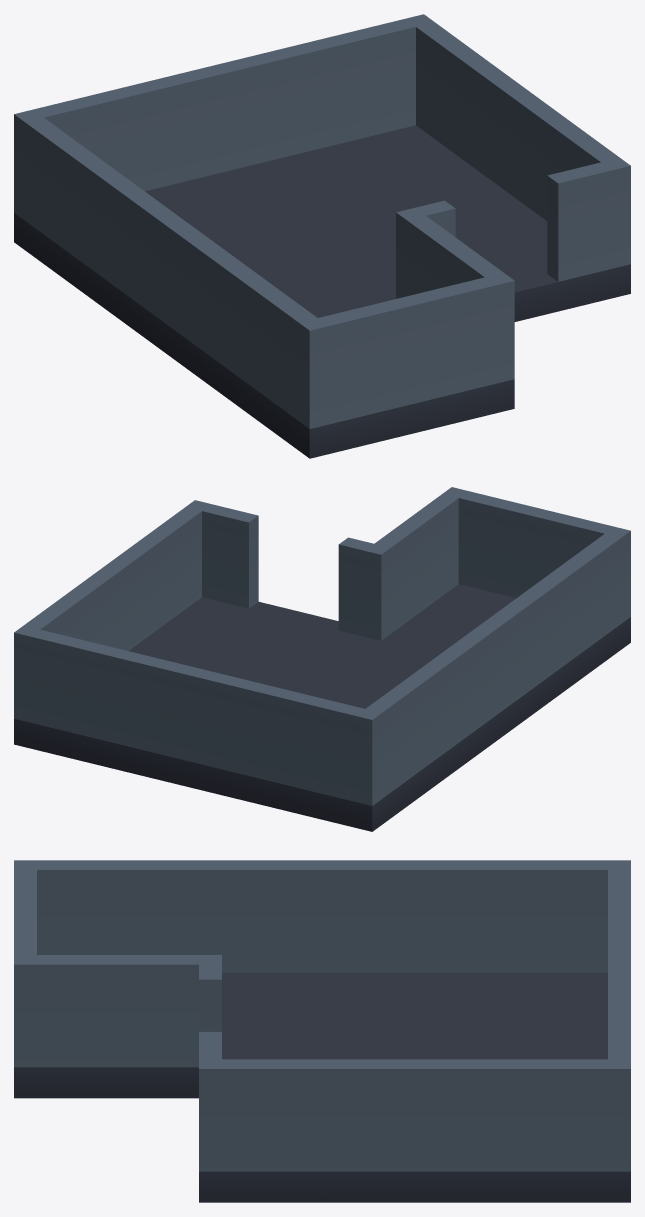
File: Fundaments_2_3.obj
3 renders of one model, top to bottom at view 1: azimuth 30°, elevation 25°; view 2: azimuth 150°, elevation 25°; view 3: azimuth 270°, elevation 25°, orthographic. The views are drawn at different scales.
Visible parts, largest first — view 1: Fundaments_2_3; view 2: Fundaments_2_3; view 3: Fundaments_2_3.
Boxes of the visible parts, x1,y1,x2,y2 form: Fundaments_2_3: [14, 14, 630, 458]; Fundaments_2_3: [14, 487, 630, 831]; Fundaments_2_3: [14, 860, 630, 1202].
Size of the model in its own units: 8 by 2.39 by 10.
